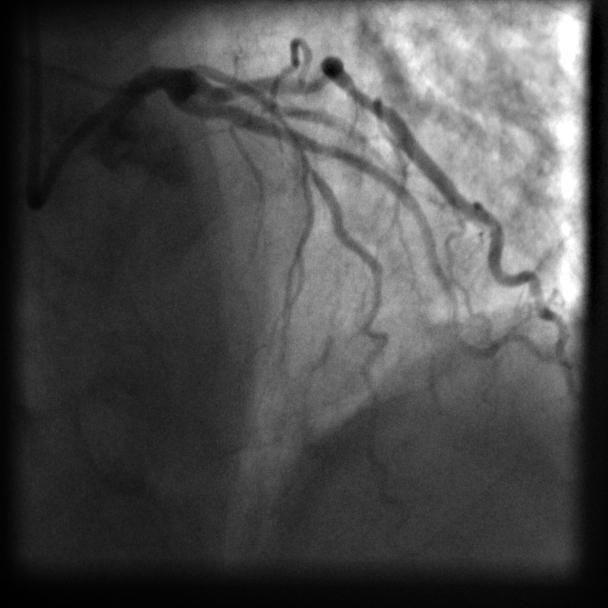Stenosis: (272, 94, 295, 146)
